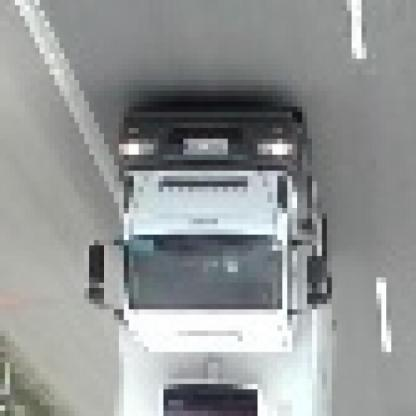truck: (95, 107, 348, 416)
